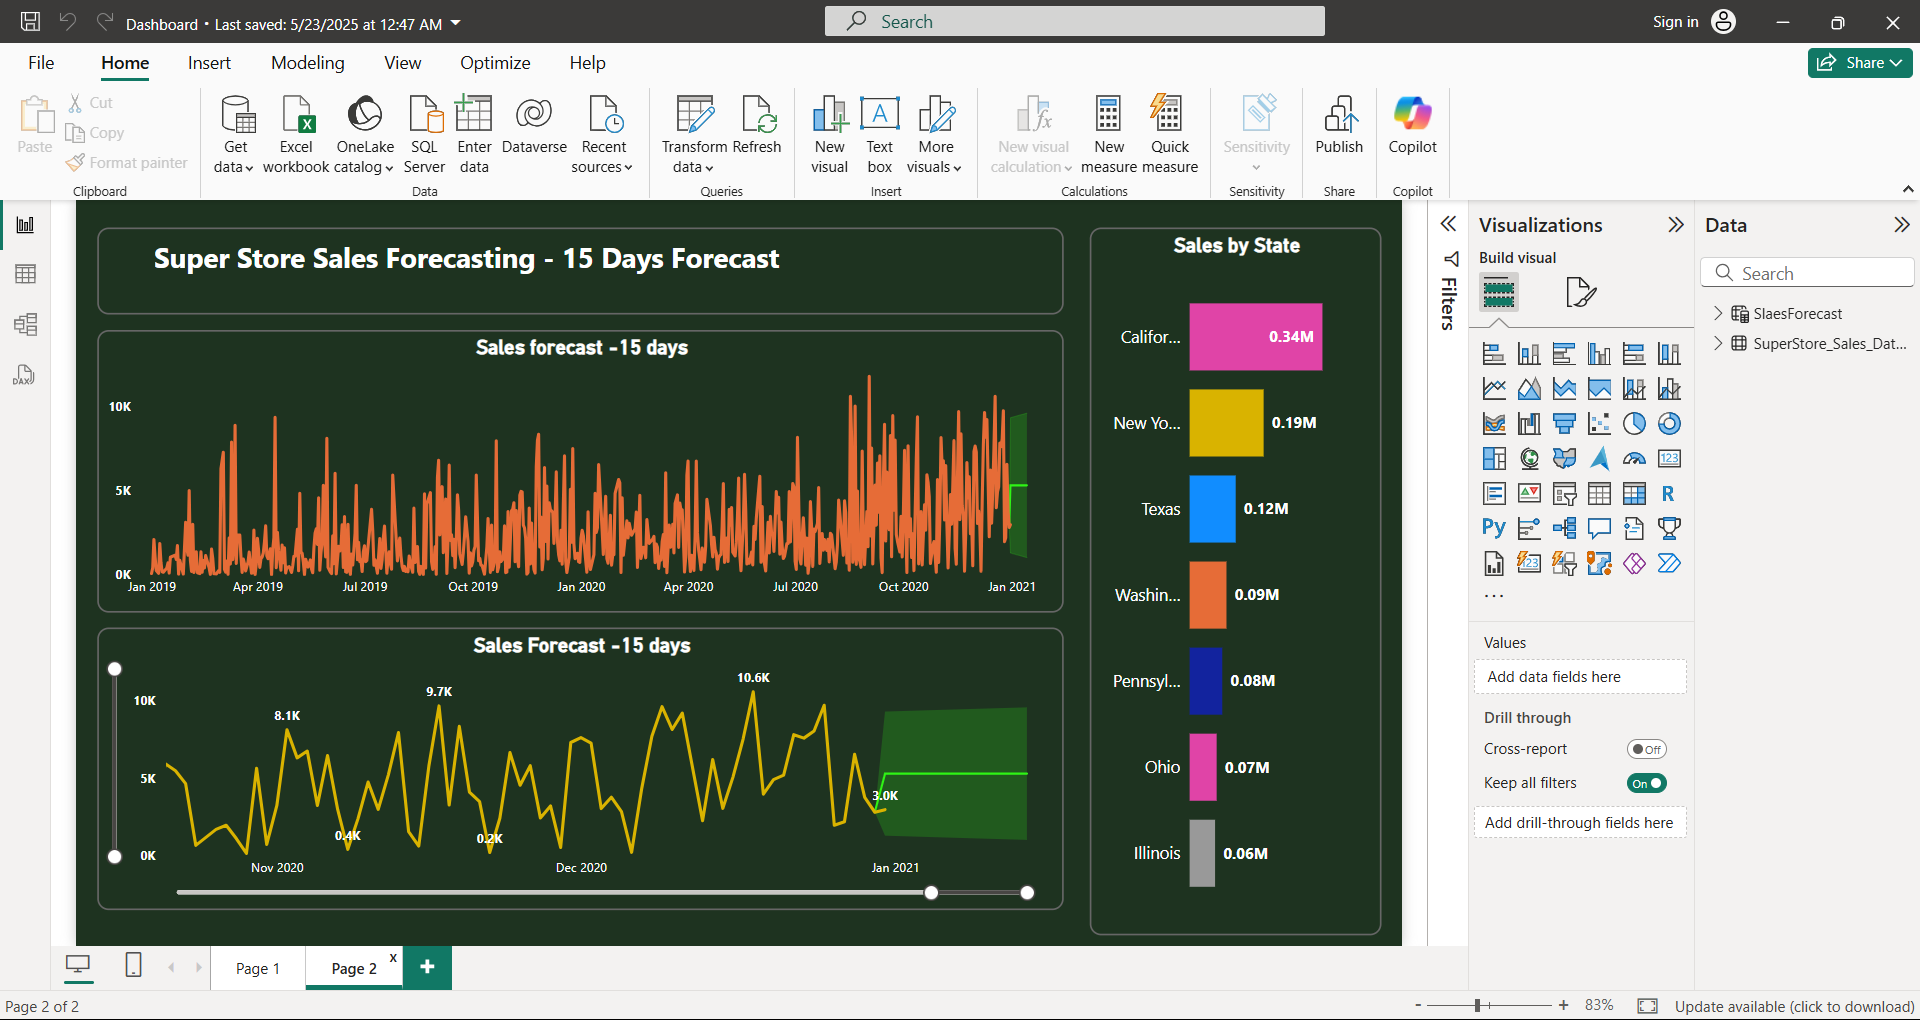

What the dashboard file says about the page in this screenshot:
{"tool":"powerbi","page":{"name":"Page 2","canvas":[1280,720],"ordinal":1},"visuals":[{"type":"lineChart","title":"Sales forecast -15 days","fields":{"Y":["Sum(SuperStore_Sales_Dataset csv.Sales)"],"Category":["SuperStore_Sales_Dataset csv.Order Date"]},"box":[20,125.7,932.9,272.9],"z":0},{"type":"clusteredBarChart","title":"Sales by State","fields":{"Category":["SuperStore_Sales_Dataset csv.State"],"Y":["Sum(SuperStore_Sales_Dataset csv.Sales)"]},"box":[978.6,27.1,281.4,682.9],"z":2},{"type":"lineChart","title":"Sales Forecast -15 days","fields":{"Y":["Sum(SuperStore_Sales_Dataset csv.Sales)"],"Category":["SuperStore_Sales_Dataset csv.Order Date"]},"box":[20,412.9,932.9,272.9],"z":3},{"type":"textbox","box":[20,27.1,932.9,84.3],"z":4}]}

Visuals, with their boxes on the page's 1280x720 design canvas (x1, y1, x2, y2). These are canvas units, not pixel positions in the 1920x1020 screenshot, which may show the page scaled, cropped or inside an application window:
"Sales forecast -15 days" lineChart: BBox(20, 126, 953, 399)
"Sales by State" clusteredBarChart: BBox(979, 27, 1260, 710)
"Sales Forecast -15 days" lineChart: BBox(20, 413, 953, 686)
textbox: BBox(20, 27, 953, 111)
